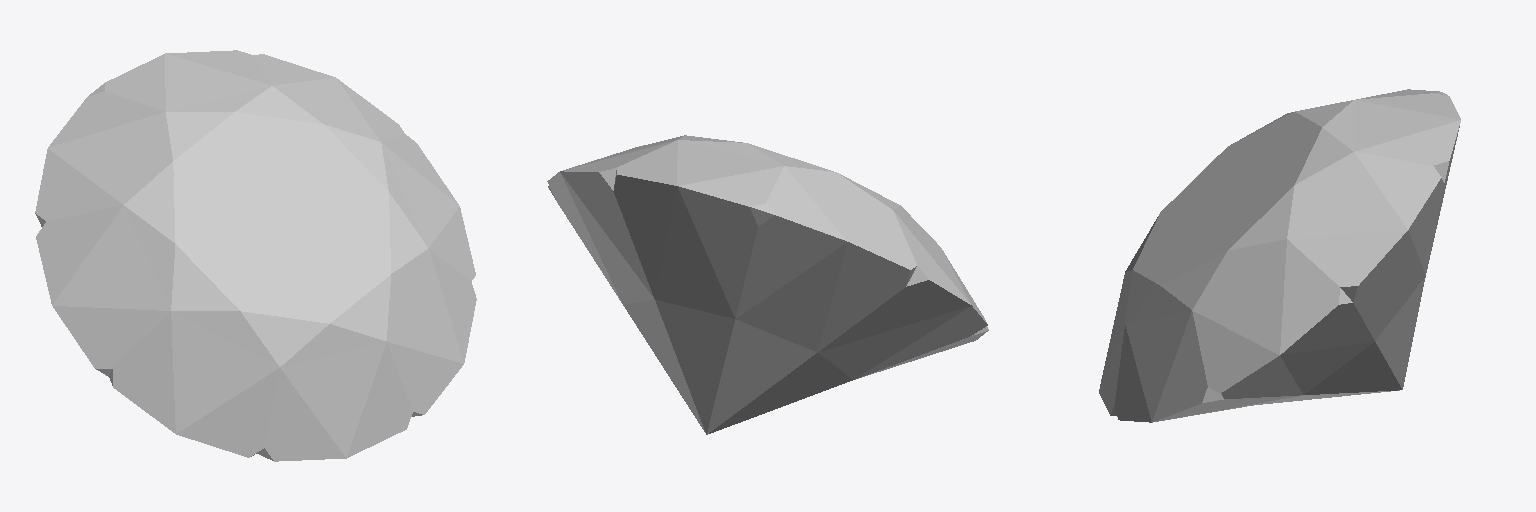
The model's file is demo_diamond1.obj.
3 renders of one model, left to right at view 1: azimuth 30°, elevation 25°; view 2: azimuth 150°, elevation 25°; view 3: azimuth 270°, elevation 25°, orthographic.
Visible parts, largest first — view 1: Mesh2; view 2: Mesh2; view 3: Mesh2.
Part boxes in pixels (x1,y1,x2,y2): Mesh2: (35,50,476,461); Mesh2: (547,135,988,434); Mesh2: (1099,89,1460,422).
Bounding box in the file's own units: 3.1 × 1.98 × 2.39.